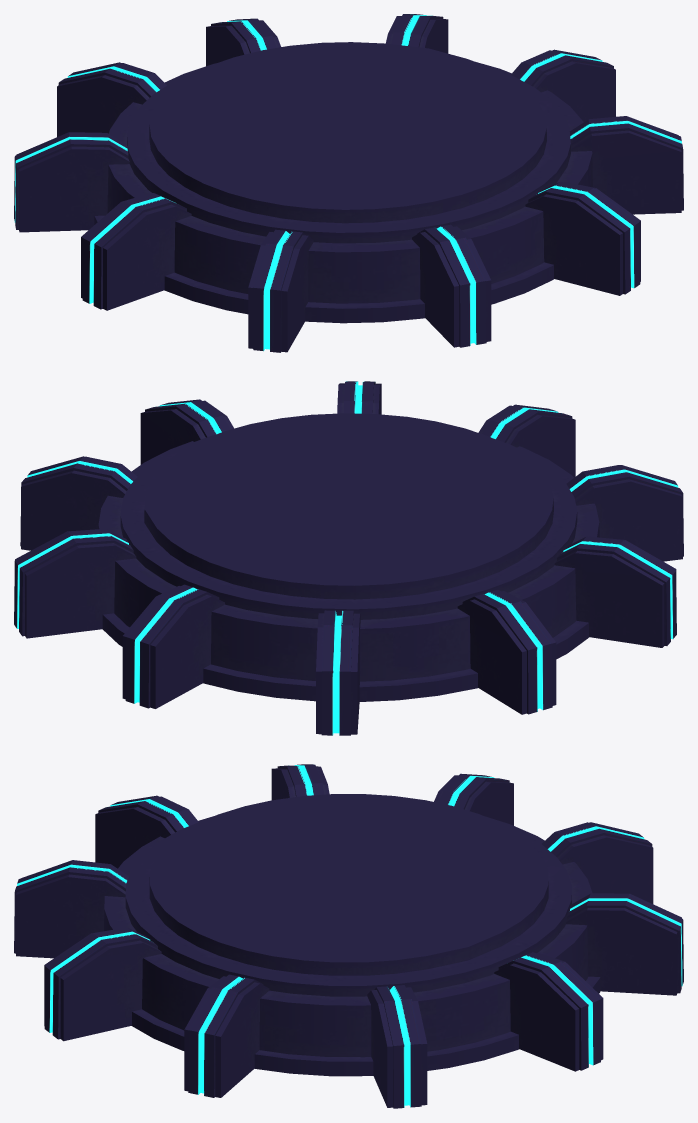
The picture shows the model from 3 angles, top to bottom: view 1: azimuth 30°, elevation 25°; view 2: azimuth 150°, elevation 25°; view 3: azimuth 270°, elevation 25°; orthographic projection. The views are drawn at different scales.
Parts seen in each view (by area): view 1: top_low3, middle_low2, leg_10_low2, leg_6_low2, leg_7_low2, leg_1_low2, leg_9_low2, leg_8_low2, bottom_low2, leg_5_low2, leg_2_low2, leg_4_low2 (+1 smaller); view 2: top_low3, middle_low2, leg_7_low2, leg_3_low2, leg_4_low2, leg_6_low2, leg_8_low2, leg_2_low2, bottom_low2, leg_5_low2, leg_9_low2, leg_1_low2 (+1 smaller); view 3: top_low3, middle_low2, leg_10_low2, leg_4_low2, leg_3_low2, leg_9_low2, leg_1_low2, leg_2_low2, leg_5_low2, bottom_low2, leg_8_low2, leg_6_low2 (+1 smaller).
Boxes of the visible parts, x1,y1,x2,y2 form: top_low3: (149,42,546,223); middle_low2: (107,62,592,303); leg_10_low2: (525,181,640,295); leg_6_low2: (14,132,129,232); leg_7_low2: (81,193,191,310); leg_1_low2: (569,116,683,214); leg_9_low2: (412,224,491,347); leg_8_low2: (248,229,313,352); bottom_low2: (94,215,553,323); leg_5_low2: (57,62,166,136); leg_2_low2: (511,49,615,121); leg_4_low2: (206,18,280,66); top_low3: (144,413,553,599); middle_low2: (98,435,599,681); leg_7_low2: (554,536,676,647); leg_3_low2: (14,528,136,638); leg_4_low2: (122,584,224,708); leg_6_low2: (457,590,556,714); leg_8_low2: (566,465,683,561); leg_2_low2: (20,456,137,550); bottom_low2: (102,613,588,701); leg_5_low2: (316,610,360,735); leg_9_low2: (478,404,575,477); leg_1_low2: (140,399,233,464); top_low3: (149,794,548,975); middle_low2: (104,816,592,1057); leg_10_low2: (44,927,161,1041); leg_4_low2: (566,893,683,995); leg_3_low2: (494,952,603,1071); leg_9_low2: (14,860,128,958); leg_1_low2: (184,974,269,1097); leg_2_low2: (367,985,427,1108); leg_5_low2: (542,822,653,903); bottom_low2: (131,976,600,1076); leg_8_low2: (95,795,198,868); leg_6_low2: (434,773,513,825).
Size of the model in its own units: 8.98 by 1.32 by 8.99.
Materials: 1 (1 with a texture image).
